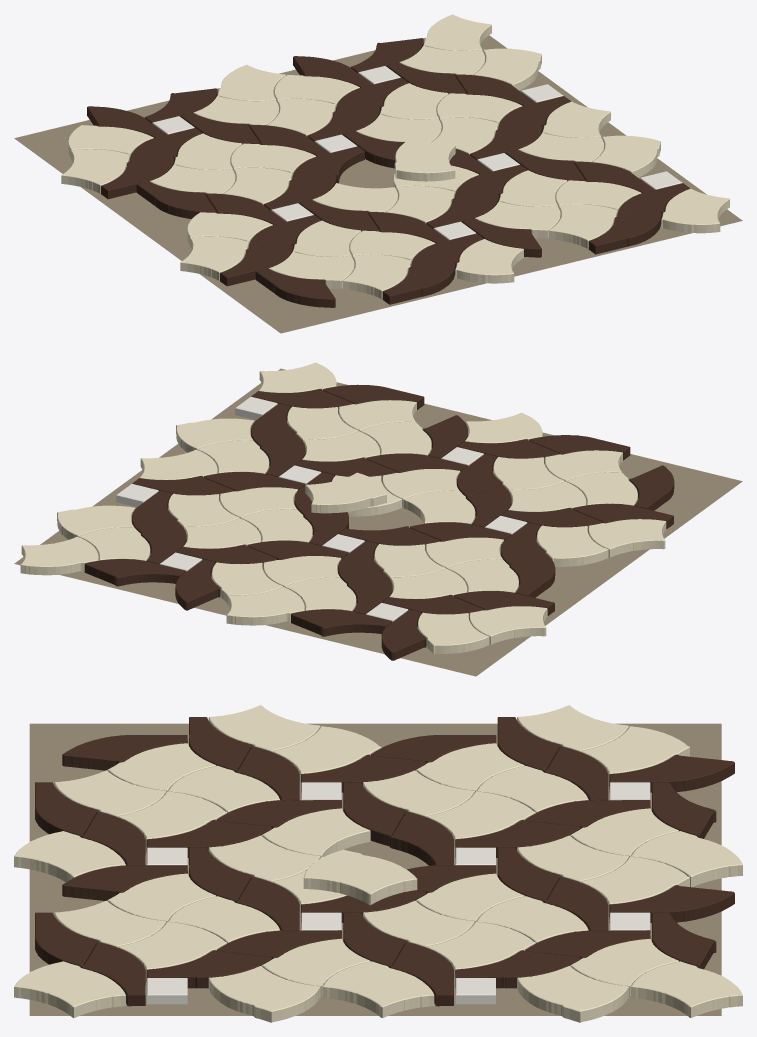
File: terilgan.glb
3 renders of one model, top to bottom at view 1: azimuth 30°, elevation 25°; view 2: azimuth 150°, elevation 25°; view 3: azimuth 270°, elevation 25°, orthographic. The views are drawn at different scales.
Visible parts, largest first — view 1: qum, t.009, t.026, t.041, t.021, t.017, t.054, t.034, t.077, t.061, t.033, t.016 (+59 smaller); view 2: qum, t.041, t.071, t.075, t.054, t.021, t.055, t.022, t.065, t.048, t.042, t.061 (+61 smaller); view 3: qum, t.041, t.061, t.059, t.077, t.075, t.026, t.009, t.071, t.042, t.074, t.055 (+67 smaller).
Part boxes in pixels (box(x1,y1,x2,y2)): qum: box(14, 35, 742, 333); t.009: box(455, 239, 523, 283); t.026: box(661, 188, 729, 233); t.041: box(394, 137, 455, 181); t.021: box(180, 236, 248, 280); t.017: box(343, 254, 411, 299); t.054: box(61, 149, 129, 193); t.034: box(549, 204, 617, 248); t.077: box(473, 48, 541, 90); t.061: box(592, 135, 660, 177); t.033: box(475, 201, 560, 238); t.016: box(268, 251, 354, 289); qum: box(14, 368, 742, 676); t.041: box(305, 472, 386, 513); t.071: box(226, 587, 304, 625); t.075: box(20, 536, 98, 575); t.054: box(469, 606, 547, 644); t.021: box(588, 519, 666, 557); t.055: box(418, 612, 489, 653); t.022: box(536, 525, 608, 566); t.065: box(84, 559, 186, 586); t.048: box(291, 609, 392, 636); t.042: box(403, 490, 475, 524); t.061: box(176, 418, 254, 452); qum: box(29, 723, 721, 1015); t.041: box(303, 849, 417, 905); t.061: box(208, 966, 320, 1022); t.059: box(322, 961, 434, 1017); t.077: box(517, 966, 628, 1022); t.075: box(631, 961, 742, 1017); t.026: box(14, 961, 125, 1017); t.009: box(14, 831, 125, 881); t.071: box(631, 831, 742, 887); t.042: box(261, 808, 370, 857); t.074: box(581, 856, 689, 913); t.055: box(581, 726, 689, 783).
Size of the model in its own units: 1.74 by 0.062 by 1.75.
